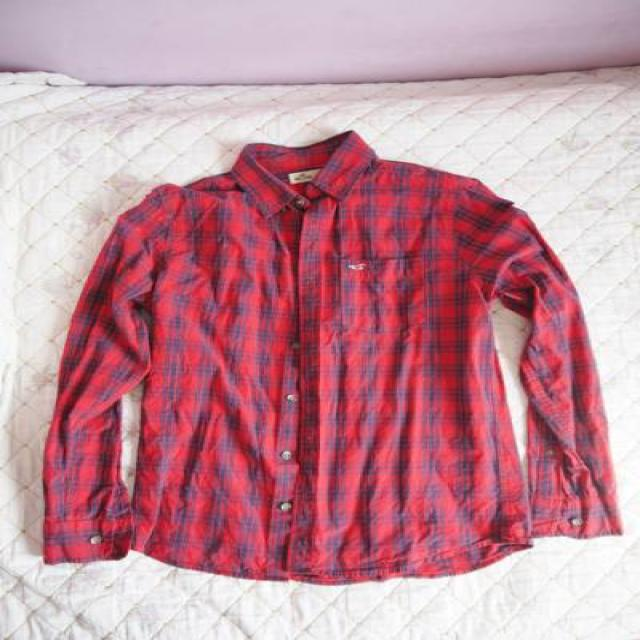non-organik: (16, 107, 634, 609)
